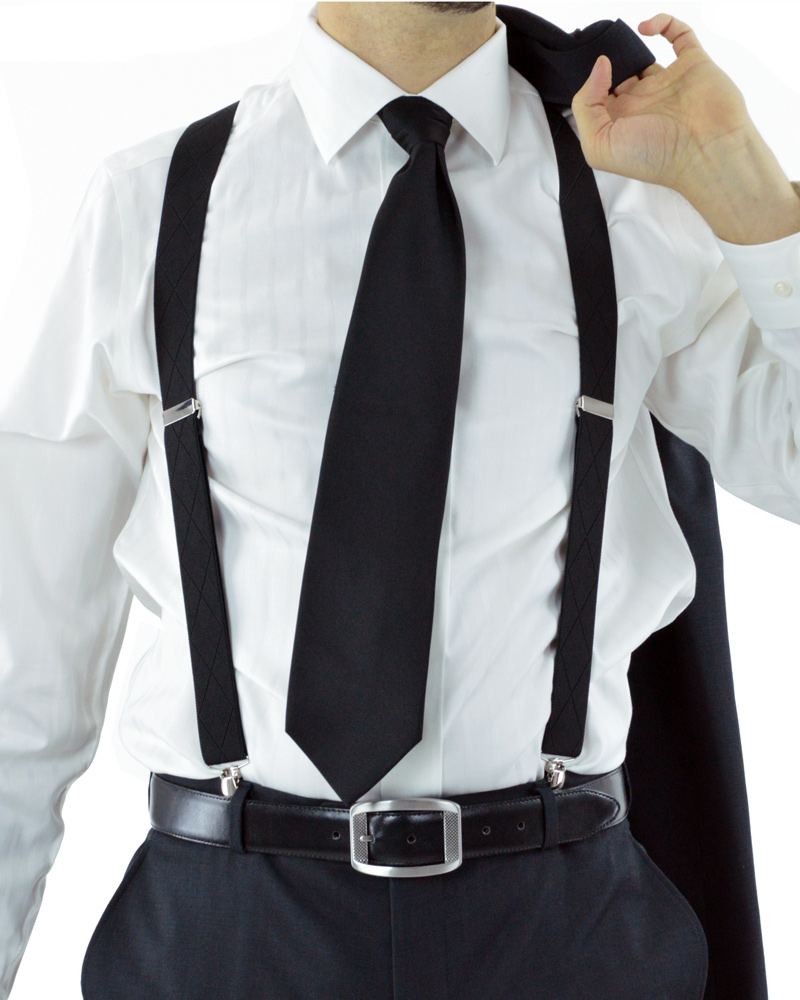F_belt: (137, 751, 666, 882)
F_shirt: (14, 29, 800, 815)
F_tie: (303, 97, 467, 804)
